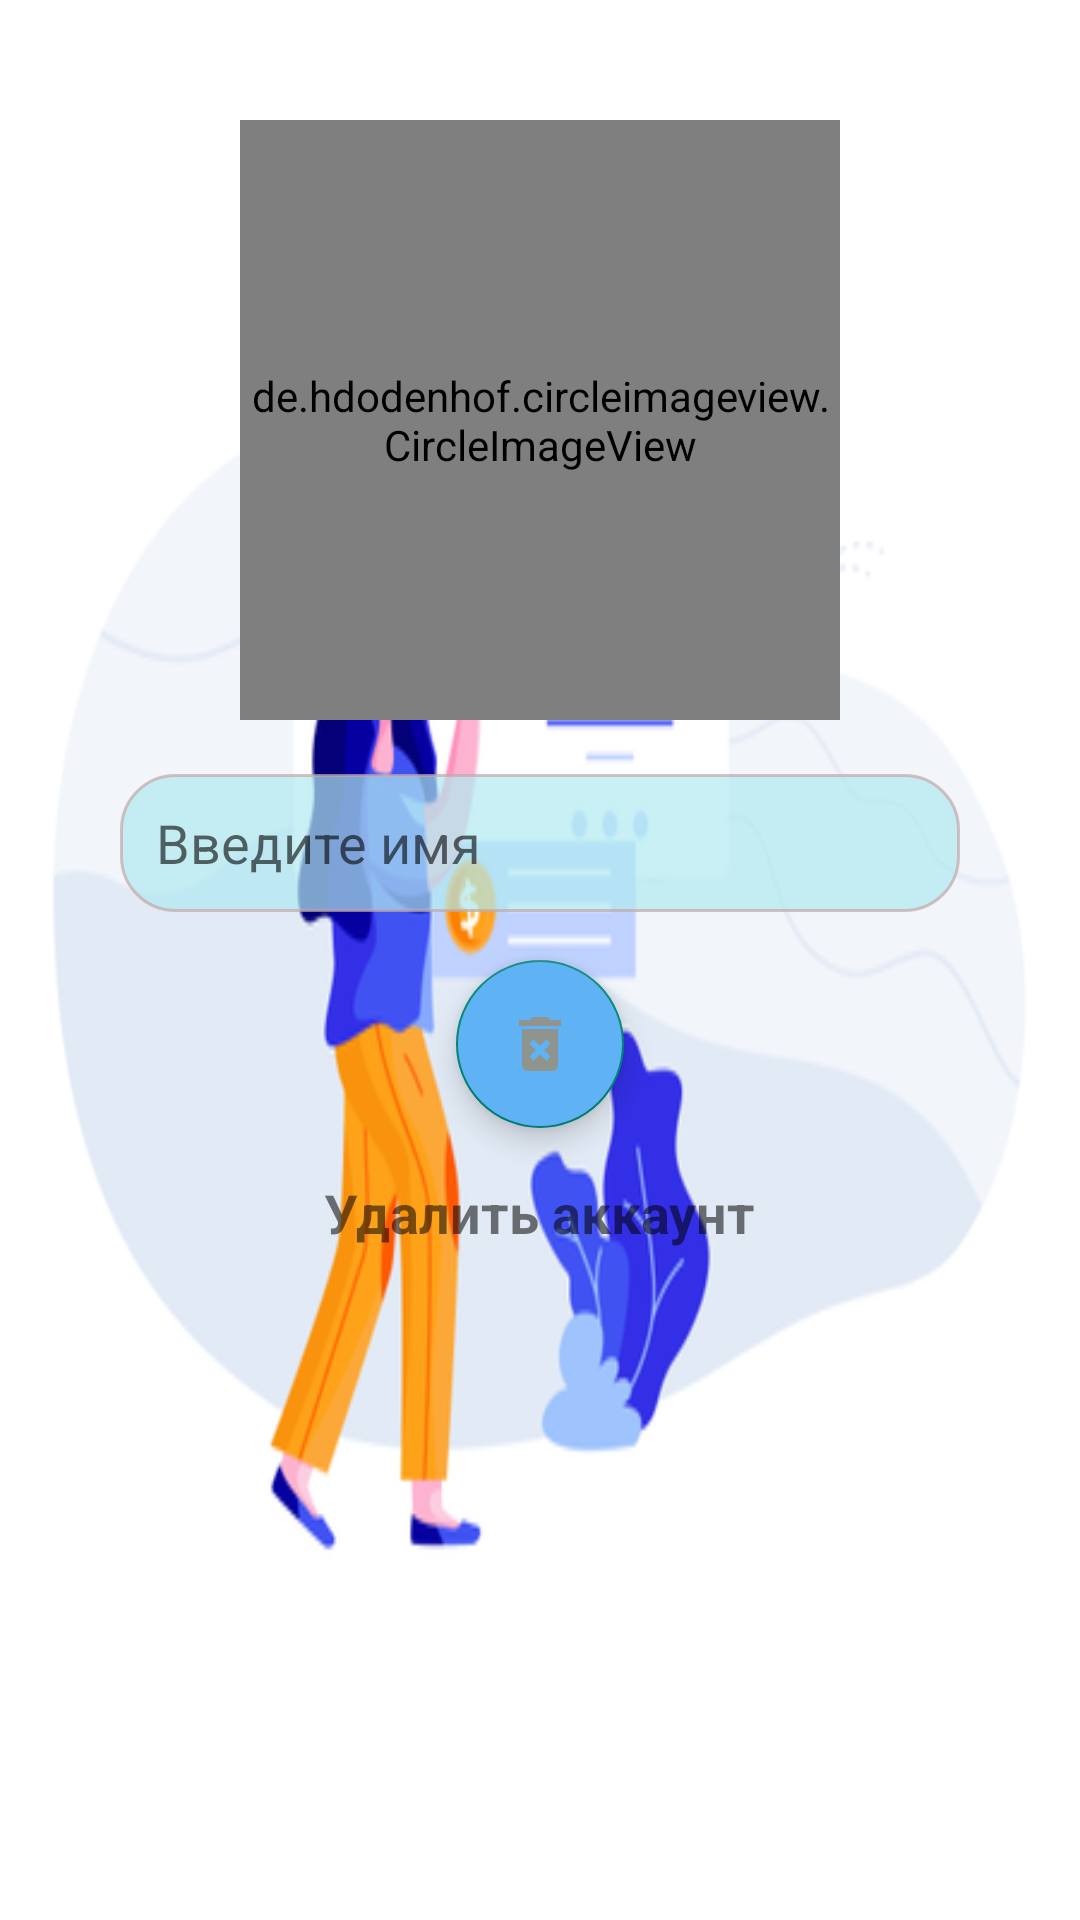

Named icons in this screenshot (1080 x 1920) and their centers, [x,y]:
delete account: [540,1044]
